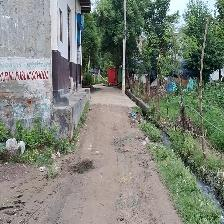Obstacle: (121, 0, 128, 96)
Road: (46, 84, 182, 223)
